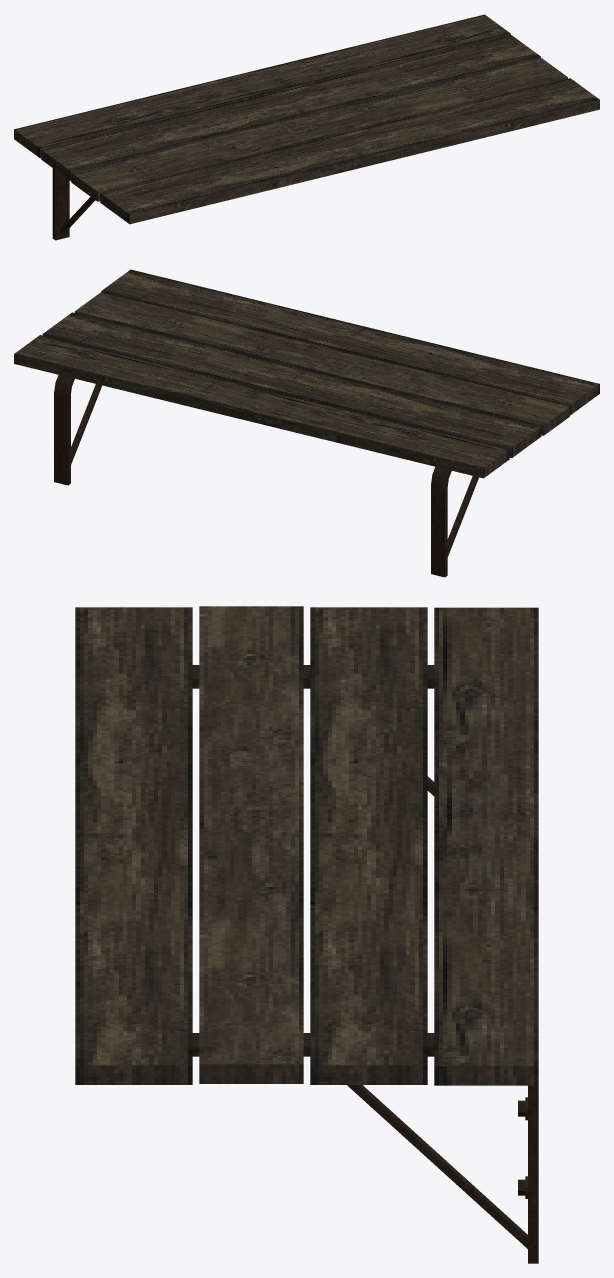
File: hanging_shelf_mx_3.glb
The picture shows the model from 3 angles, top to bottom: view 1: azimuth 30°, elevation 25°; view 2: azimuth 150°, elevation 25°; view 3: azimuth 270°, elevation 25°; orthographic projection. The views are drawn at different scales.
Parts seen in each view (by area): view 1: hanging_shelf_mx_3; view 2: hanging_shelf_mx_3; view 3: hanging_shelf_mx_3.
Part boxes in pixels (x1,y1,x2,y2): hanging_shelf_mx_3: [14, 14, 599, 240]; hanging_shelf_mx_3: [14, 269, 599, 577]; hanging_shelf_mx_3: [75, 606, 538, 1263].
Bounding box in the file's own units: 1 × 0.24 × 0.426.
Materials: 2 (2 with a texture image).
